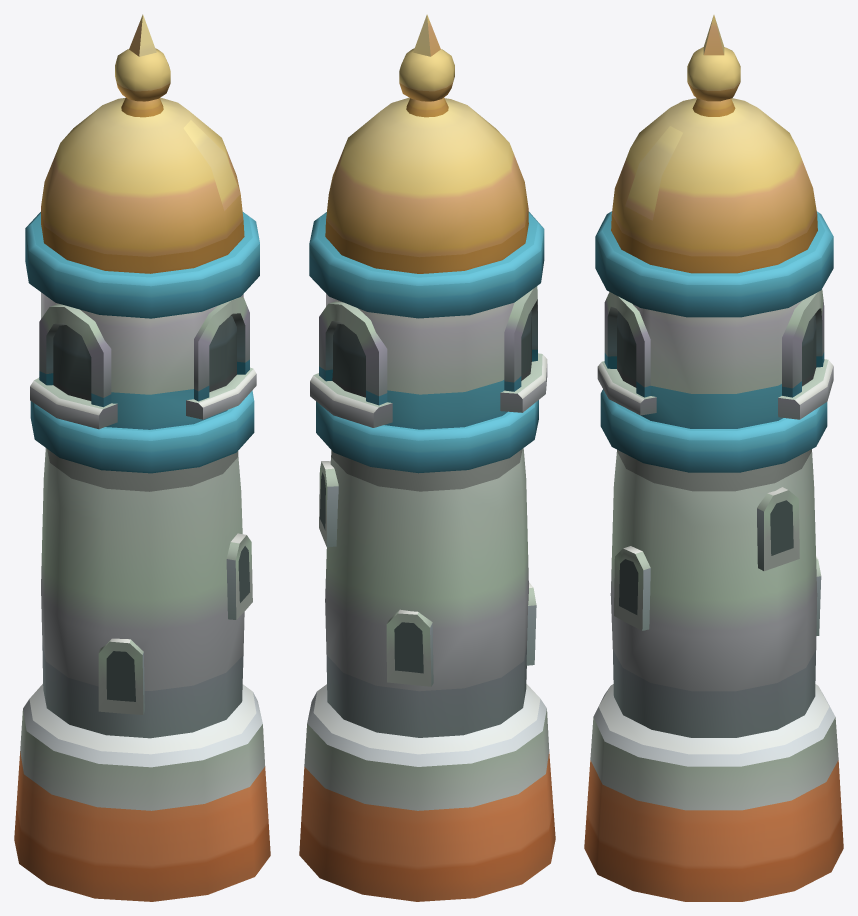
File: desert-tower.obj
The picture shows the model from 3 angles, left to right: view 1: azimuth 30°, elevation 25°; view 2: azimuth 150°, elevation 25°; view 3: azimuth 270°, elevation 25°; orthographic projection.
Visible parts, largest first — view 1: desert-tower; view 2: desert-tower; view 3: desert-tower.
Boxes of the visible parts, <box> form: desert-tower: <box>14,14,270,901</box>; desert-tower: <box>299,14,555,901</box>; desert-tower: <box>584,15,843,901</box>.
Size of the model in its own units: 12.01 by 43.64 by 12.3.
1 material, 1 textured.
